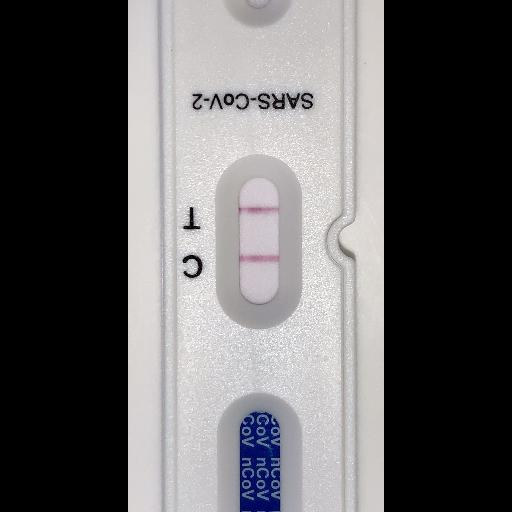Pos: (160, 0, 358, 511)
